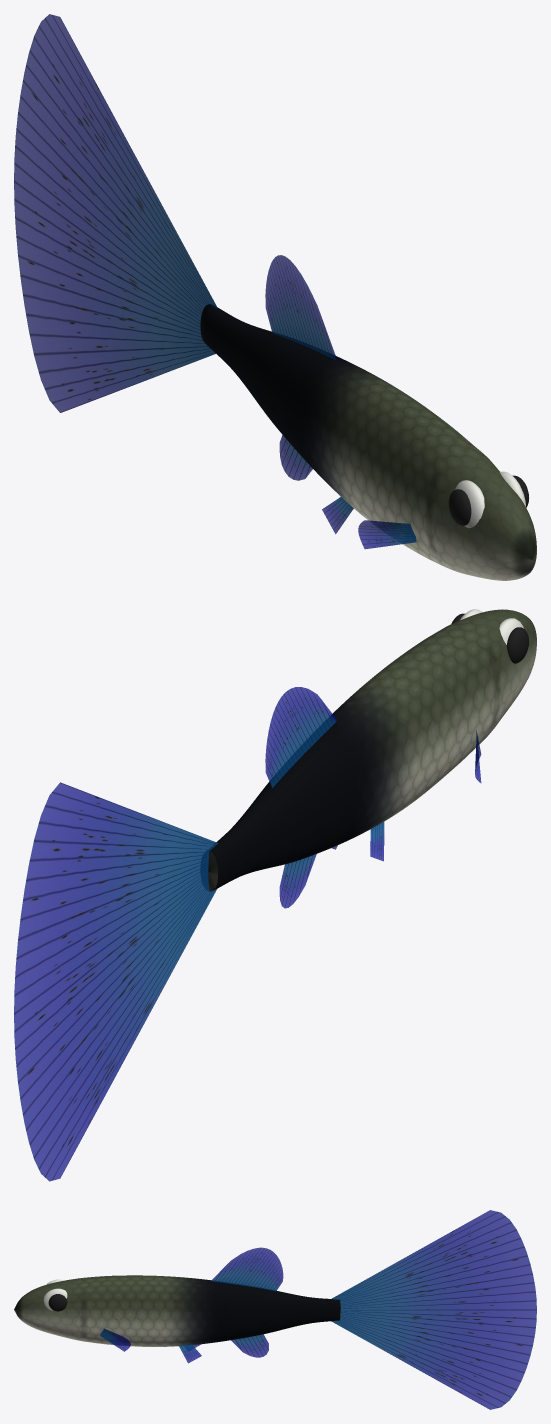
The model's file is guppy_2.glb.
3 renders of one model, top to bottom at view 1: azimuth 30°, elevation 25°; view 2: azimuth 150°, elevation 25°; view 3: azimuth 270°, elevation 25°, orthographic. The views are drawn at different scales.
Parts seen in each view (by area): view 1: fins, body, iris, pupil; view 2: fins, body, pupil; view 3: fins, body, pupil, iris.
Boxes of the visible parts, x1,y1,x2,y2 form: fins: (14, 14, 416, 549); body: (200, 304, 536, 580); iris: (455, 471, 526, 528); pupil: (448, 475, 528, 525); fins: (14, 687, 481, 1181); body: (208, 609, 536, 891); pupil: (451, 613, 529, 663); fins: (100, 1210, 536, 1409); body: (14, 1275, 340, 1346); pupil: (48, 1294, 67, 1311); iris: (43, 1279, 67, 1310).
Bounding box in the file's own units: 0.1467 × 0.476 × 1.13.
Materials: 4 (2 with a texture image).
